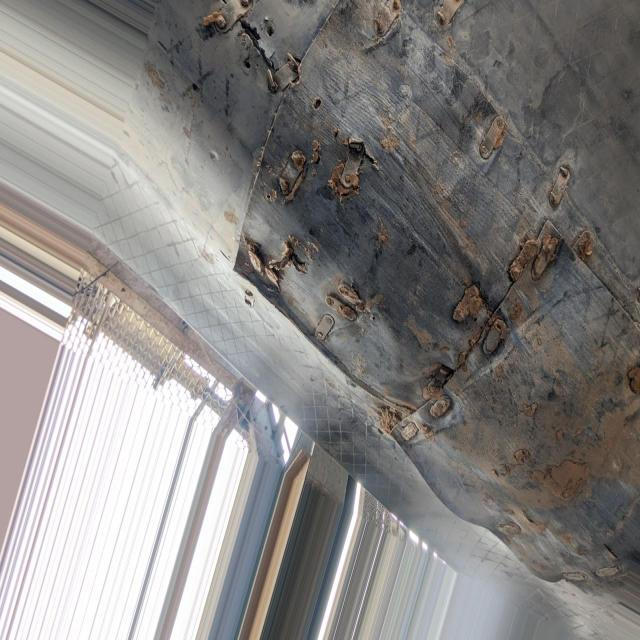patch work: (190, 0, 621, 461)
